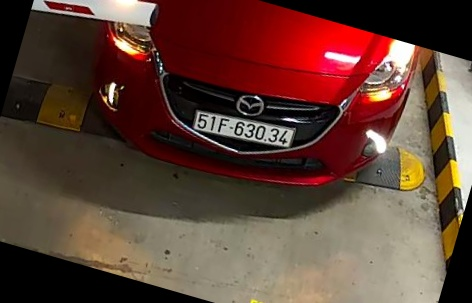plate: (189, 102, 294, 157)
